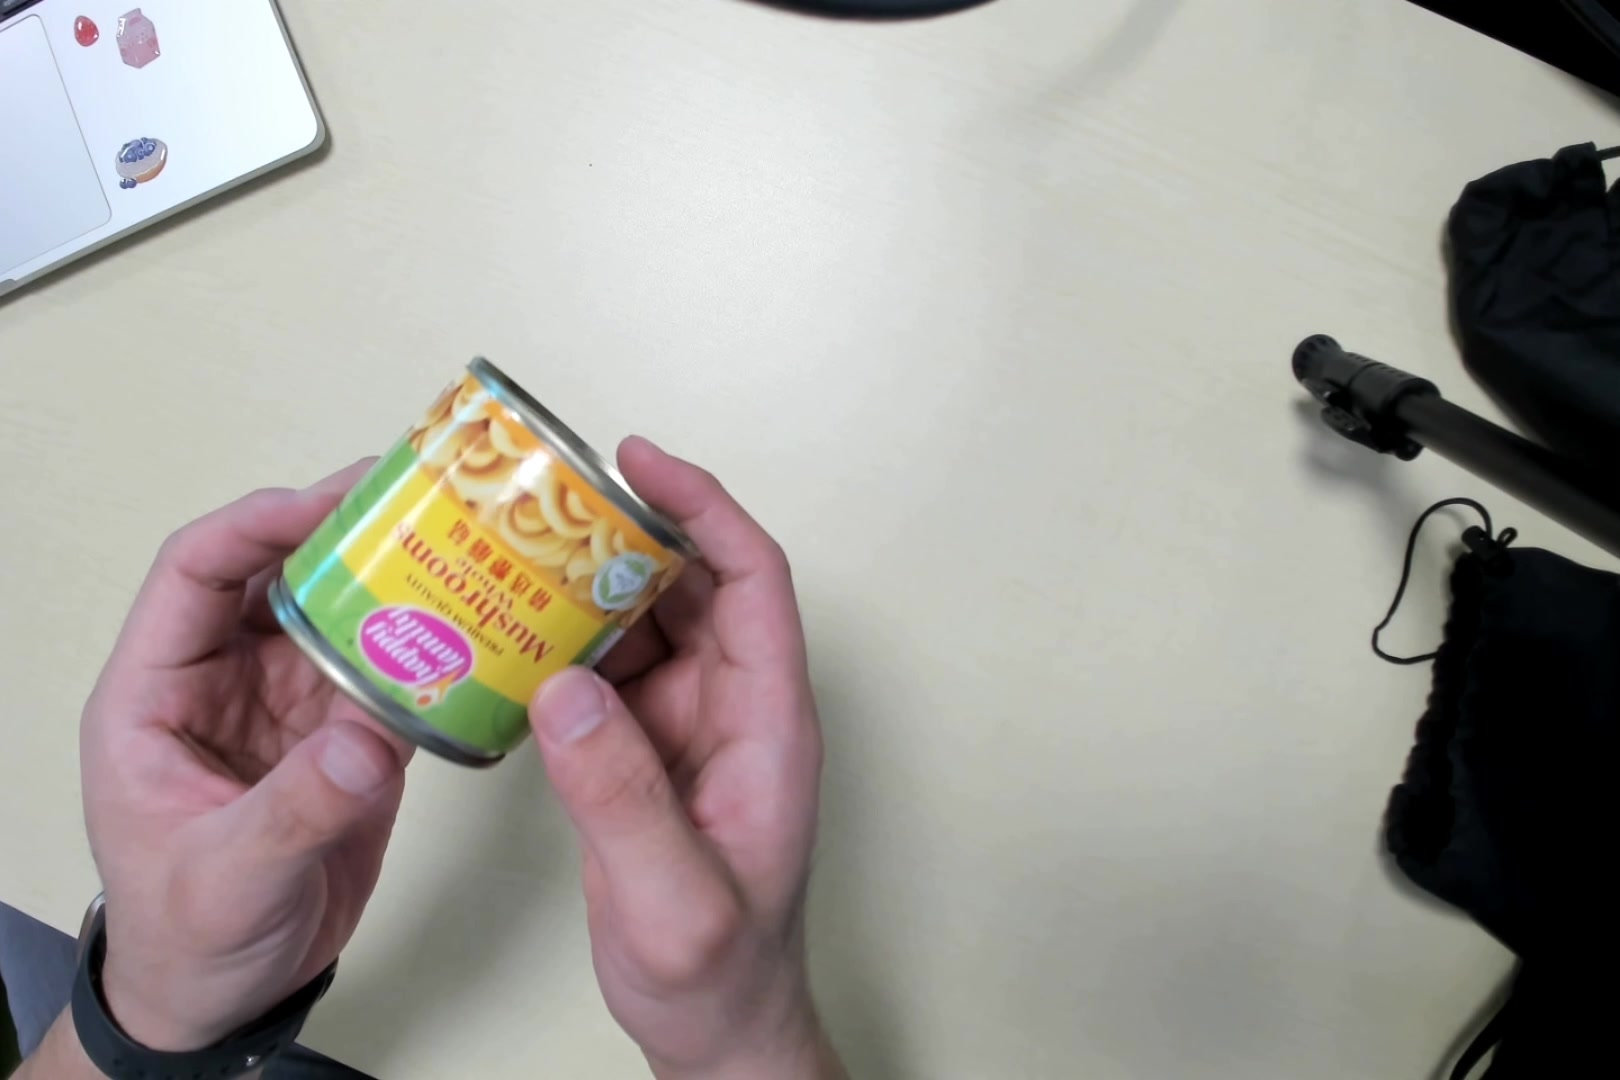CannedMashrooms_100-199g_Halal_NonHealthy: (283, 360, 675, 762)
